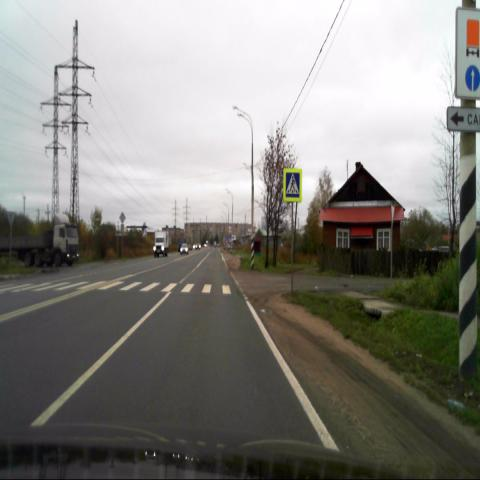5_19_1: (284, 169, 302, 202)
